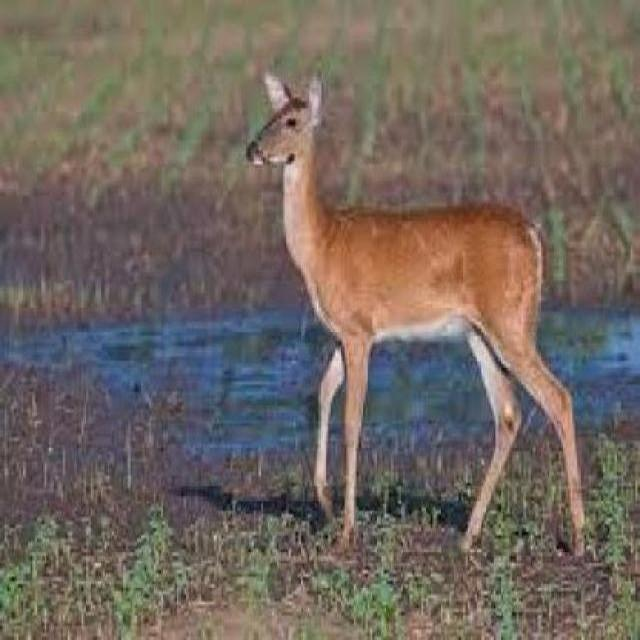deer: (233, 61, 604, 571)
